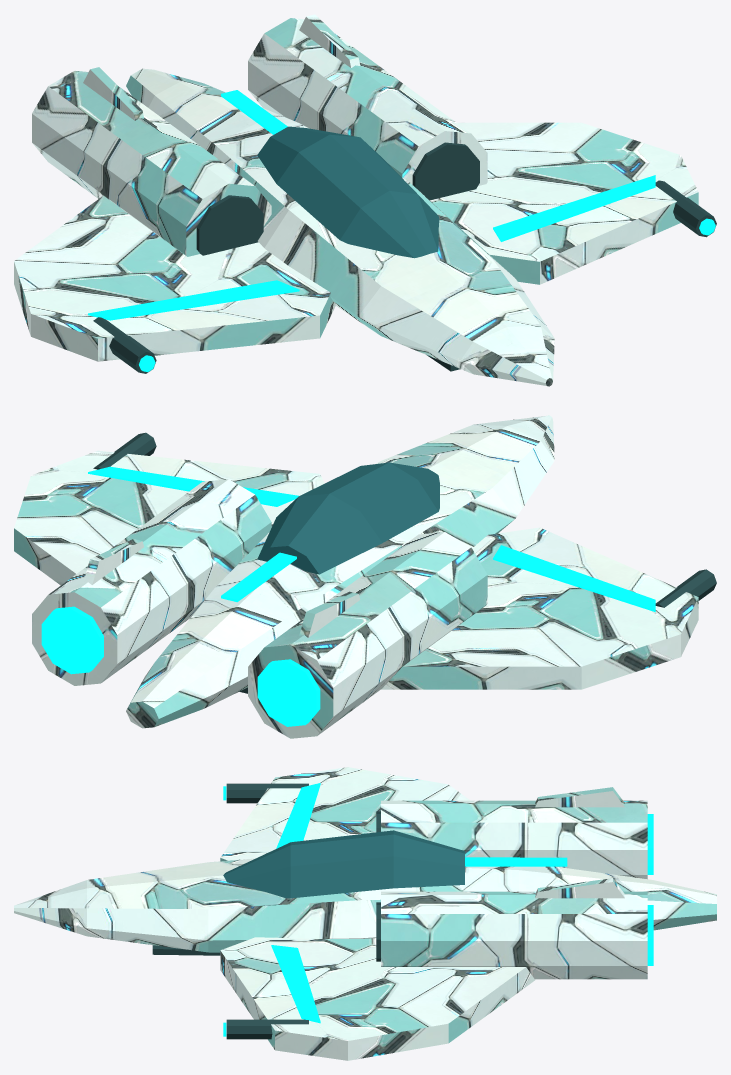
The model's file is wraith.glb.
The picture shows the model from 3 angles, top to bottom: view 1: azimuth 30°, elevation 25°; view 2: azimuth 150°, elevation 25°; view 3: azimuth 270°, elevation 25°; orthographic projection. The views are drawn at different scales.
Parts seen in each view (by area): view 1: Wraith_Armor, Wraith_Canopy, Wraith_Structure, Wraith_CyanGlow; view 2: Wraith_Armor, Wraith_Canopy, Wraith_CyanGlow, Wraith_Structure; view 3: Wraith_Armor, Wraith_Canopy, Wraith_CyanGlow, Wraith_Structure.
Part boxes in pixels (x1,y1,x2,y2): Wraith_Armor: (14,14,698,386); Wraith_Canopy: (257,126,439,258); Wraith_Structure: (93,142,716,373); Wraith_CyanGlow: (88,90,715,371); Wraith_Armor: (14,415,698,738); Wraith_Canopy: (257,462,439,574); Wraith_CyanGlow: (41,466,655,726); Wraith_Structure: (93,432,716,693); Wraith_Armor: (14,767,716,1060); Wraith_Canopy: (223,830,464,898); Wraith_CyanGlow: (223,783,653,1036); Wraith_Structure: (152,783,380,1039).
Size of the model in its own units: 7.1 by 1.36 by 7.7.
4 materials, 1 textured.
